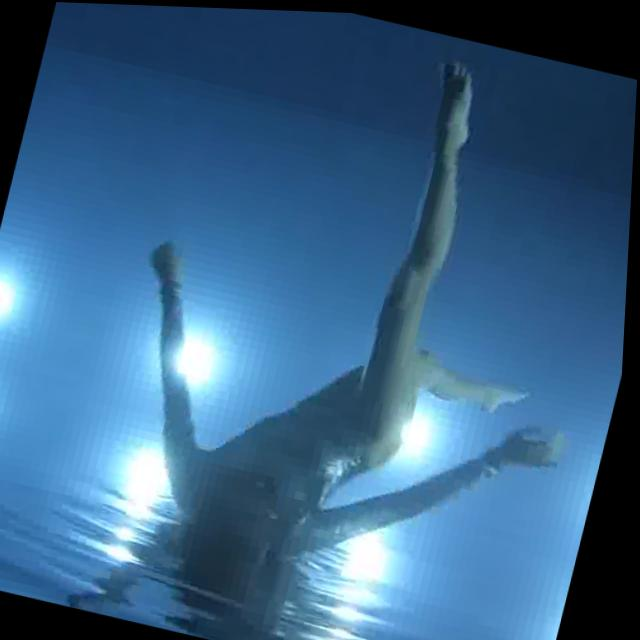human: (69, 3, 637, 640)
